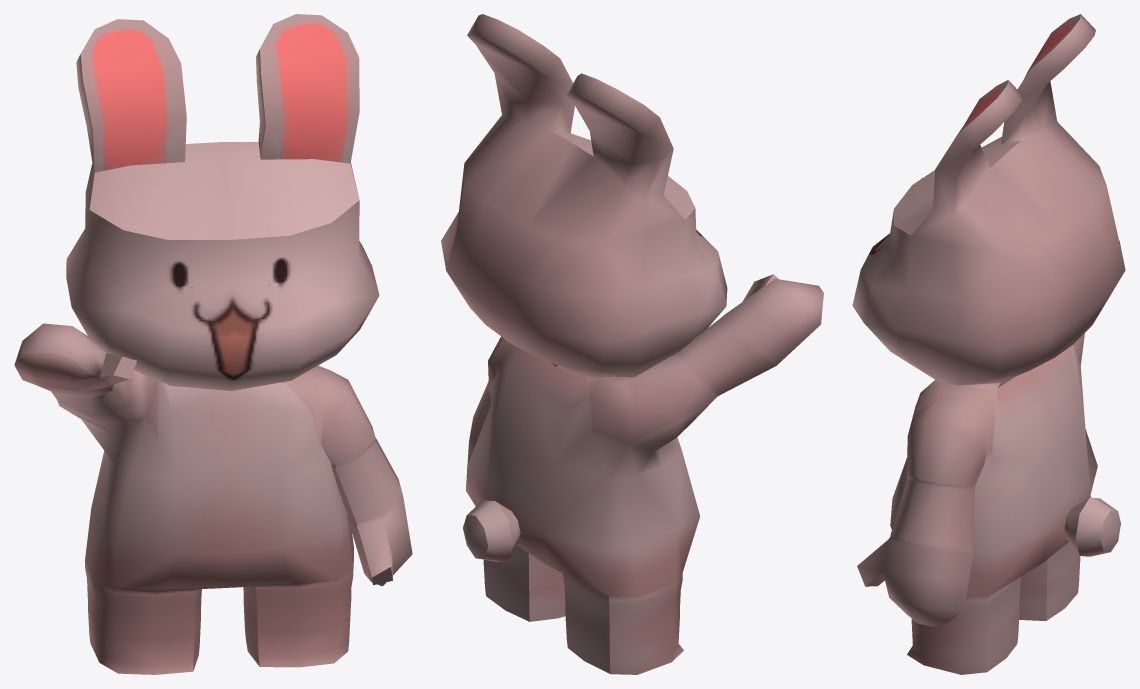
The picture shows the model from 3 angles, left to right: view 1: azimuth 30°, elevation 25°; view 2: azimuth 150°, elevation 25°; view 3: azimuth 270°, elevation 25°; orthographic projection. The views are drawn at different scales.
Visible parts, largest first — view 1: Rb_R_S5; view 2: Rb_R_S5; view 3: Rb_R_S5.
Boxes of the visible parts, x1=… form: Rb_R_S5: x1=14, y1=14, x2=412, y2=674; Rb_R_S5: x1=441, y1=14, x2=823, y2=674; Rb_R_S5: x1=852, y1=14, x2=1125, y2=674.
Bounding box in the file's own units: 4.72 × 7.27 × 3.11.
